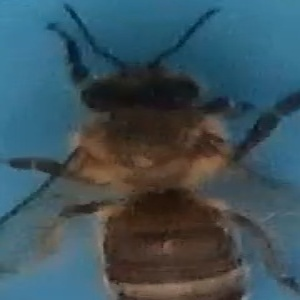bee: (40, 4, 297, 300)
